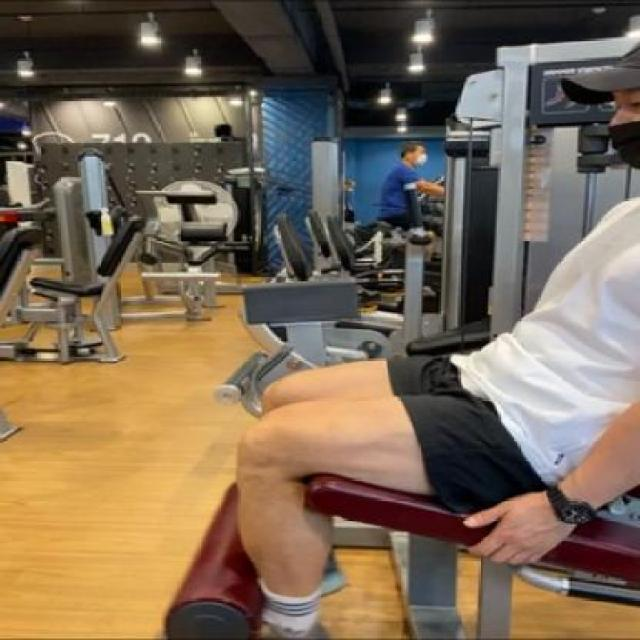leg extension: (137, 17, 640, 640)
